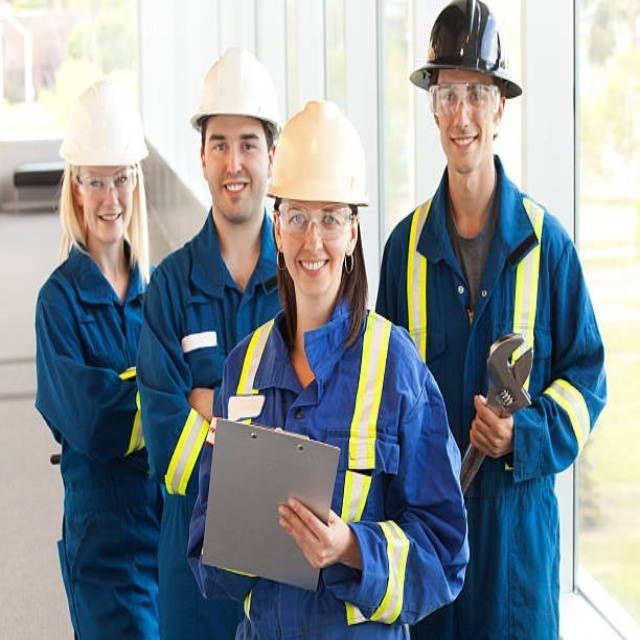Gafas: (276, 202, 356, 240), (428, 82, 501, 120), (75, 167, 139, 195)
Sin_gafas: (204, 121, 265, 159)
Sin_guantes: (276, 500, 347, 572), (469, 395, 515, 459)
Sin_mascara: (445, 125, 484, 170), (293, 249, 333, 291), (215, 175, 250, 208), (94, 205, 130, 237)
